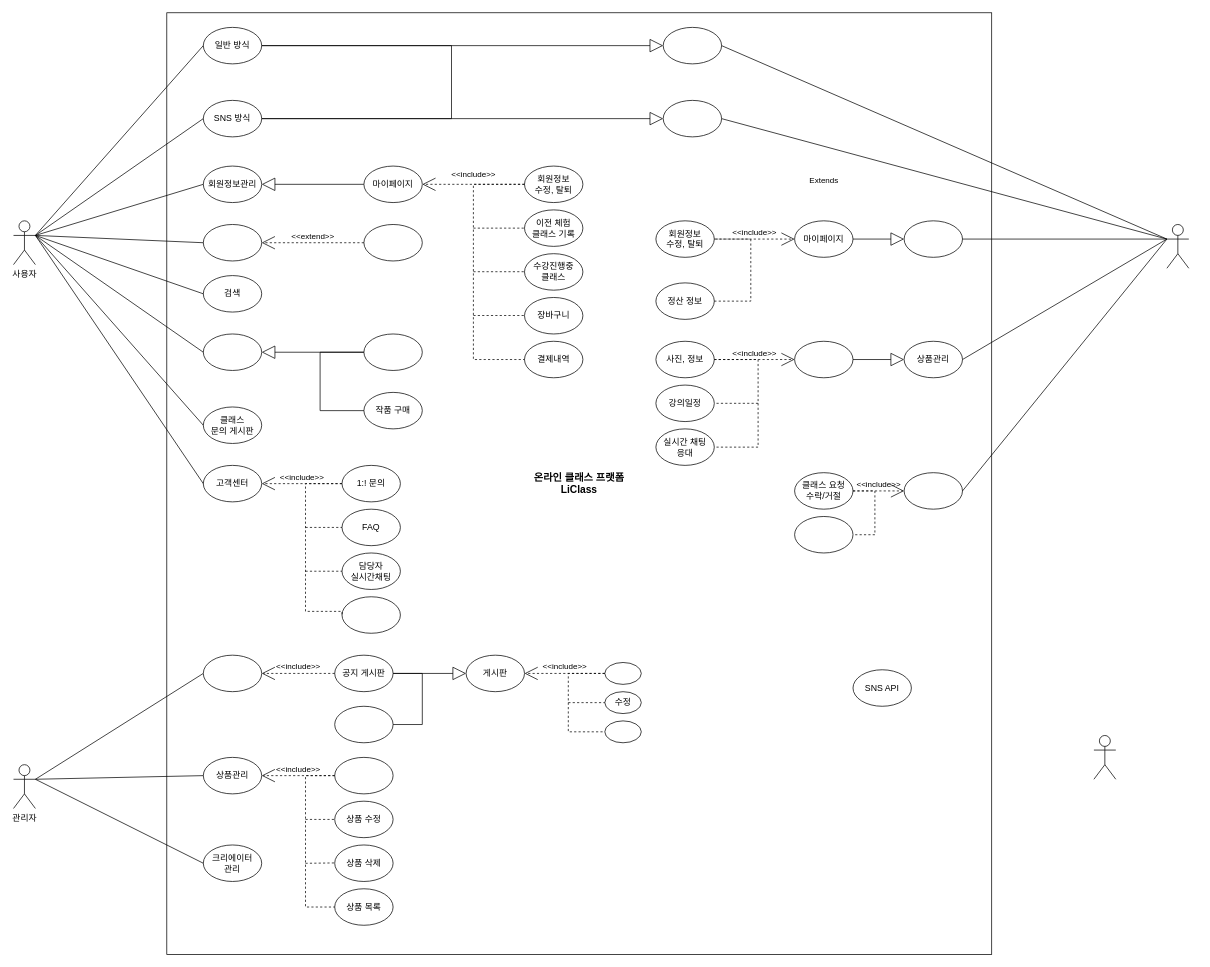
The diagram is 1210 pixels wide and 967 high, and some of its shapes have lost their labels. The shapes that lost their labels are listed below. From the top down, each one's centre as x and y in pixels, then its label:
the point at 692,45: 회원가입
the point at 692,118: 로그인
the point at 232,242: 상품리스트
the point at 392,242: 상품 상세페이지
the point at 933,238: 크리에이터 정보관리
the point at 1177,246: 크리에이터 (강사)
the point at 232,351: 구매
the point at 392,351: 클래스 구매
the point at 823,359: 본인 클래스 상세페이지
the point at 933,490: 수강생관리
the point at 823,534: 수강생 연락처
the point at 370,614: 신고기능
the point at 232,673: 고객관리
the point at 622,673: 등록
the point at 363,724: 이벤트 게시판
the point at 622,731: 삭제
the point at 363,775: 상품 등록
the point at 1104,757: API
